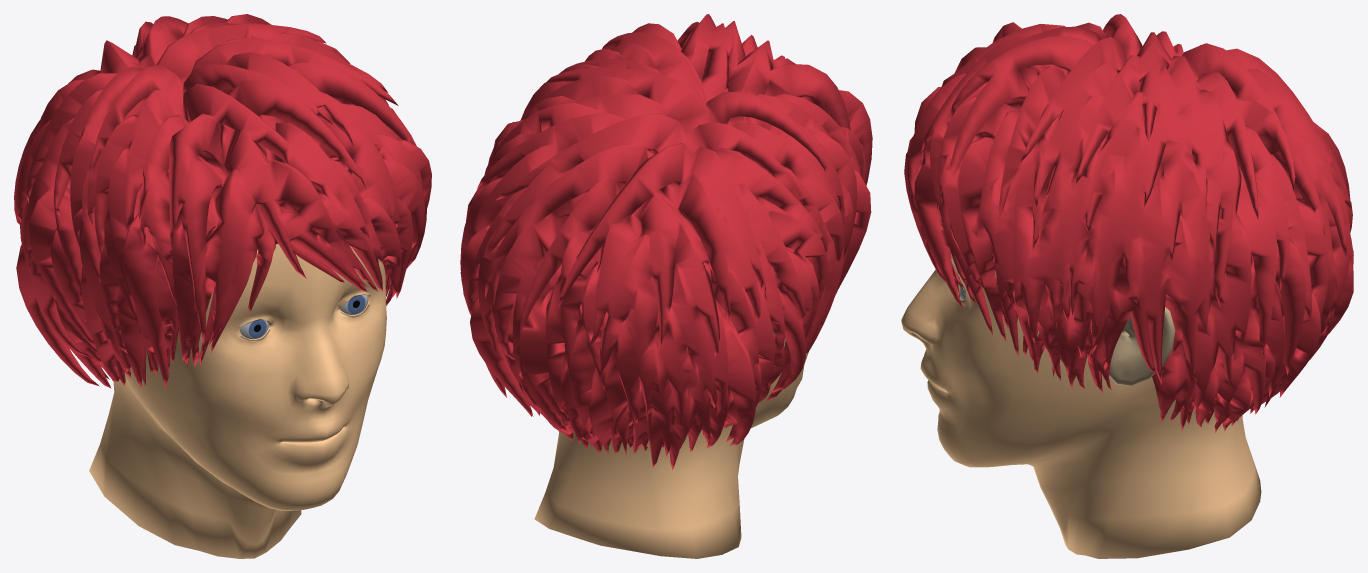
The model's file is MiniHead.dae.
The picture shows the model from 3 angles, left to right: view 1: azimuth 30°, elevation 25°; view 2: azimuth 150°, elevation 25°; view 3: azimuth 270°, elevation 25°; orthographic projection. The views are drawn at different scales.
Parts seen in each view (by area): view 1: Hair, Head, Eye; view 2: Hair, Head; view 3: Hair, Head, Ear.
Boxes of the visible parts, left/top/right/bottom form: Hair: left=14, top=14, right=431, bottom=388; Head: left=89, top=244, right=386, bottom=558; Eye: left=240, top=294, right=368, bottom=339; Hair: left=460, top=14, right=872, bottom=469; Head: left=534, top=352, right=808, bottom=558; Hair: left=904, top=14, right=1353, bottom=432; Head: left=901, top=253, right=1261, bottom=558; Ear: left=1109, top=307, right=1175, bottom=385.
Size of the model in its own units: 2.23 by 2.6 by 3.22.
